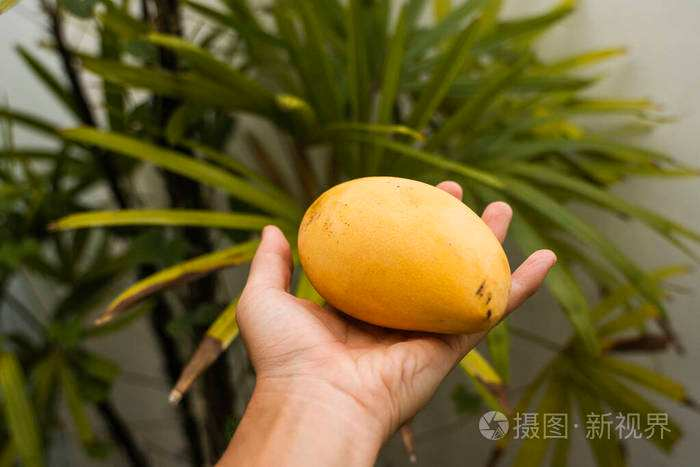no-phone: (234, 172, 565, 429)
